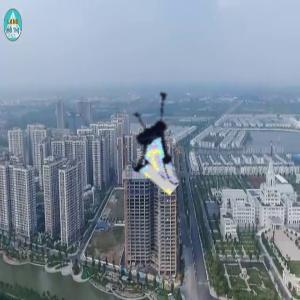drone: (108, 82, 210, 184)
